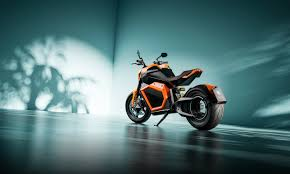motorcycle: (122, 52, 229, 134)
